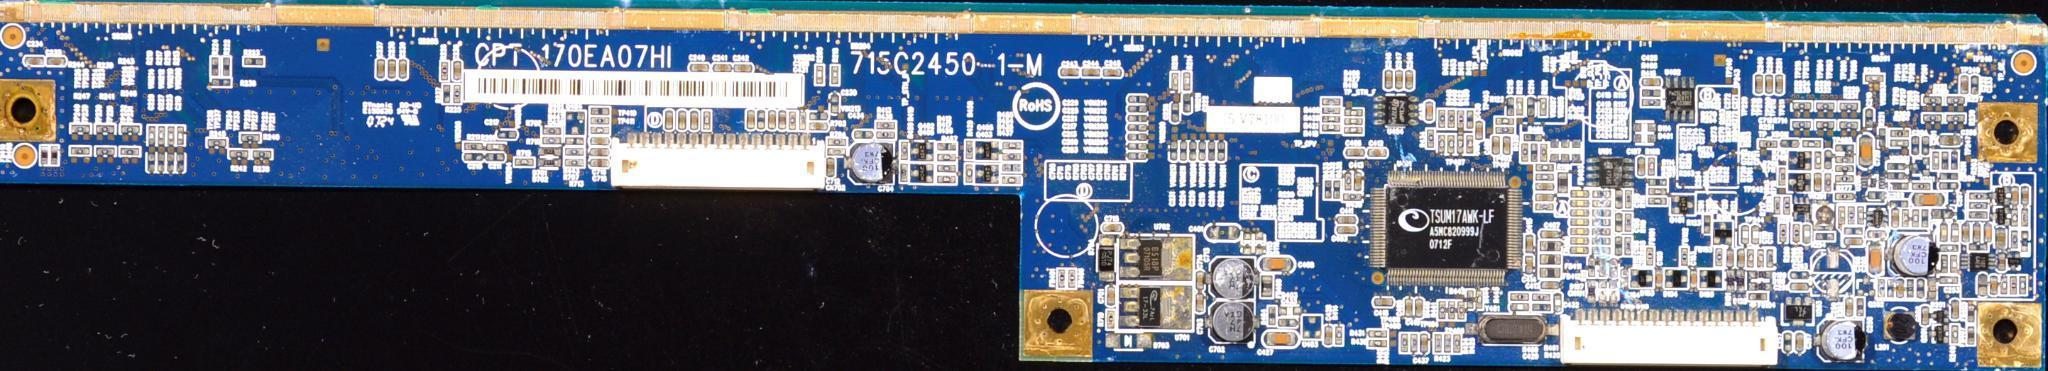Capacitor Jumper: (1861, 137, 1874, 166), (1209, 229, 1240, 240), (1870, 248, 1882, 276), (1264, 260, 1292, 272), (1267, 333, 1294, 345), (1917, 195, 1942, 206), (1102, 223, 1123, 234), (1940, 137, 1960, 146), (1062, 68, 1081, 77), (1384, 71, 1394, 90), (1814, 172, 1823, 192), (1541, 231, 1561, 240), (1196, 294, 1206, 314), (1642, 78, 1660, 88), (831, 94, 840, 112), (810, 112, 828, 121), (1476, 121, 1485, 140), (1369, 148, 1387, 157), (1997, 231, 2006, 250), (1846, 299, 1855, 317), (26, 57, 44, 67), (377, 61, 387, 80), (1974, 223, 1981, 244), (1616, 236, 1624, 257), (1690, 270, 1698, 291), (690, 114, 699, 131), (1638, 158, 1647, 175), (1896, 281, 1906, 298), (455, 63, 462, 82), (1407, 71, 1415, 90), (747, 111, 755, 131), (780, 111, 788, 131), (810, 123, 829, 131), (1128, 142, 1148, 150), (1844, 238, 1864, 246), (1991, 277, 1998, 297), (1326, 327, 1334, 346), (47, 59, 67, 67), (1126, 107, 1148, 114), (1081, 69, 1100, 77), (1102, 69, 1121, 77), (1971, 77, 1979, 95), (1128, 95, 1147, 103), (1866, 110, 1874, 128), (1493, 137, 1501, 155), (1219, 142, 1226, 161), (487, 154, 505, 162), (827, 158, 835, 176), (2013, 188, 2021, 206), (1536, 195, 1554, 202), (1893, 210, 1900, 229), (1962, 225, 1970, 243), (1727, 251, 1735, 269), (1526, 257, 1533, 276), (1198, 272, 1206, 290), (1792, 283, 1810, 291), (734, 64, 752, 72), (691, 65, 709, 73), (1128, 125, 1149, 132), (1616, 189, 1622, 210), (1942, 223, 1949, 244), (1766, 77, 1774, 94), (1755, 77, 1763, 94), (1960, 77, 1968, 94), (1505, 138, 1512, 155), (1573, 191, 1590, 199), (1753, 229, 1761, 246), (1526, 236, 1533, 253), (1556, 295, 1563, 312), (1405, 300, 1413, 317), (1784, 334, 1792, 351), (1426, 102, 1433, 121), (1128, 115, 1148, 121), (1128, 133, 1148, 140), (1190, 141, 1196, 161), (590, 149, 610, 155), (1941, 278, 1960, 285), (1109, 287, 1115, 307), (1279, 320, 1298, 327), (1377, 299, 1392, 307), (1396, 71, 1403, 89), (1528, 98, 1535, 116), (1173, 105, 1179, 123), (592, 138, 610, 145), (1200, 142, 1207, 161), (1347, 150, 1365, 157), (466, 153, 485, 159), (590, 161, 609, 167), (1536, 183, 1554, 189), (2022, 188, 2028, 206), (1571, 201, 1590, 208), (1617, 214, 1624, 233), (1571, 229, 1590, 235), (1985, 226, 1992, 244), (1805, 226, 1812, 244), (1742, 226, 1749, 244), (1573, 247, 1591, 253), (1657, 270, 1664, 289), (1543, 282, 1561, 289), (1512, 304, 1531, 311), (1416, 299, 1422, 317), (1421, 334, 1428, 353), (1797, 334, 1804, 353), (500, 132, 517, 138), (1209, 142, 1216, 159), (1181, 142, 1187, 159), (1337, 217, 1354, 223), (1573, 219, 1590, 226), (1953, 303, 1959, 320), (1923, 308, 1929, 325), (714, 65, 731, 72), (391, 61, 397, 78), (401, 61, 408, 78), (1128, 154, 1149, 159), (667, 111, 673, 131), (1354, 175, 1361, 191), (1337, 229, 1357, 234), (2000, 255, 2006, 270), (1778, 76, 1783, 94), (1509, 99, 1514, 118), (680, 112, 686, 131), (1172, 142, 1177, 161), (1571, 212, 1590, 217), (771, 112, 776, 129), (1573, 239, 1590, 244), (1738, 252, 1744, 268)
Connector: (614, 131, 828, 195), (1561, 308, 1780, 370)
IC: (1371, 176, 1523, 283), (1122, 283, 1195, 328), (1123, 238, 1194, 283), (1590, 157, 1633, 191), (1377, 95, 1420, 127), (1668, 77, 1694, 123), (1785, 297, 1812, 328)
Resistor Jumper: (938, 154, 957, 165), (208, 138, 229, 148), (229, 149, 249, 158), (253, 152, 273, 161), (1452, 336, 1462, 355), (1866, 74, 1885, 84), (828, 138, 846, 148), (246, 57, 264, 67), (1368, 340, 1388, 347), (1924, 97, 1944, 105), (243, 135, 263, 142), (938, 144, 957, 152), (1792, 225, 1800, 244), (1369, 331, 1388, 338), (1183, 73, 1191, 91), (1643, 90, 1661, 98), (1540, 99, 1548, 118), (1817, 105, 1835, 112), (1946, 115, 1964, 123), (1345, 118, 1364, 125), (1817, 121, 1835, 129), (1840, 121, 1859, 129), (1345, 127, 1364, 135), (1428, 131, 1435, 149), (566, 149, 584, 157), (1003, 155, 1021, 163), (566, 159, 584, 167), (938, 165, 956, 172), (1004, 176, 1023, 184), (1625, 214, 1633, 233), (212, 59, 219, 77), (1782, 225, 1788, 246), (1947, 97, 1964, 105), (1795, 103, 1812, 111), (1439, 111, 1447, 128), (879, 121, 896, 129), (543, 128, 560, 136), (1893, 140, 1910, 148), (466, 142, 483, 150), (488, 144, 505, 152), (1522, 145, 1529, 162), (1650, 159, 1657, 176), (1004, 165, 1021, 172), (967, 165, 974, 182), (1533, 294, 1550, 302), (1458, 303, 1465, 320), (1270, 308, 1277, 325), (1108, 314, 1115, 331), (1951, 327, 1959, 344), (1435, 334, 1443, 351), (1445, 334, 1452, 351), (818, 67, 824, 86), (444, 85, 451, 105), (1924, 115, 1944, 121), (542, 138, 562, 145), (1458, 135, 1464, 154), (516, 159, 536, 166), (1648, 189, 1668, 196), (1336, 327, 1343, 346), (455, 86, 461, 105), (1323, 98, 1341, 105), (1643, 99, 1661, 106), (1323, 107, 1341, 114), (1323, 116, 1341, 123), (1459, 111, 1465, 129), (1496, 128, 1514, 135), (1891, 132, 1910, 138), (1524, 135, 1543, 141), (1532, 144, 1539, 162), (1541, 145, 1548, 163), (939, 176, 957, 183), (1913, 183, 1932, 189), (1335, 180, 1341, 199), (1836, 195, 1855, 201), (1626, 239, 1633, 257), (1439, 302, 1446, 320), (1448, 302, 1455, 320), (225, 59, 231, 77), (441, 64, 448, 81), (1516, 98, 1523, 115), (1842, 103, 1859, 110), (1347, 111, 1364, 118), (1497, 119, 1514, 125), (1795, 123, 1812, 129), (567, 138, 584, 145), (1467, 137, 1473, 154), (1004, 144, 1021, 150), (967, 142, 973, 159), (829, 149, 846, 155), (1326, 182, 1332, 199), (1345, 195, 1362, 201), (1625, 191, 1631, 208), (1650, 199, 1667, 205), (1512, 294, 1529, 300), (1533, 304, 1550, 311), (1173, 73, 1179, 89), (1448, 111, 1455, 127), (1439, 136, 1446, 152), (1322, 125, 1340, 131), (876, 133, 895, 138), (1448, 137, 1454, 155), (1347, 172, 1352, 191), (1650, 180, 1668, 185), (833, 67, 839, 84), (1704, 217, 1710, 234)
Transistor: (974, 165, 1000, 185), (977, 141, 999, 163), (910, 165, 935, 184), (910, 141, 933, 162), (1788, 150, 1810, 171), (1789, 172, 1813, 192), (1672, 195, 1695, 213), (1718, 221, 1735, 244), (1633, 270, 1656, 287), (1667, 272, 1689, 289), (1701, 268, 1718, 287)
